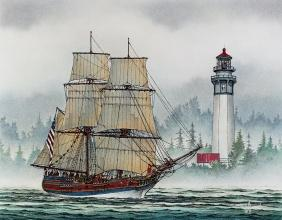fanchuan: (33, 41, 196, 198)
